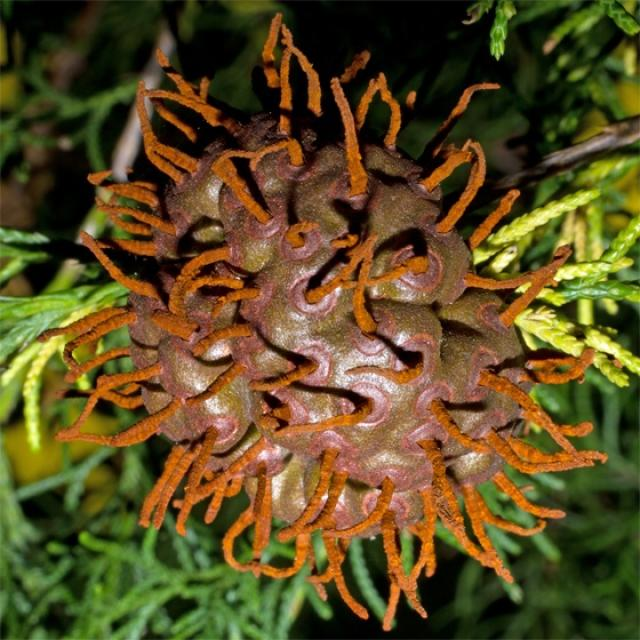Gymnosporangium_Rusts: (40, 11, 608, 631)
